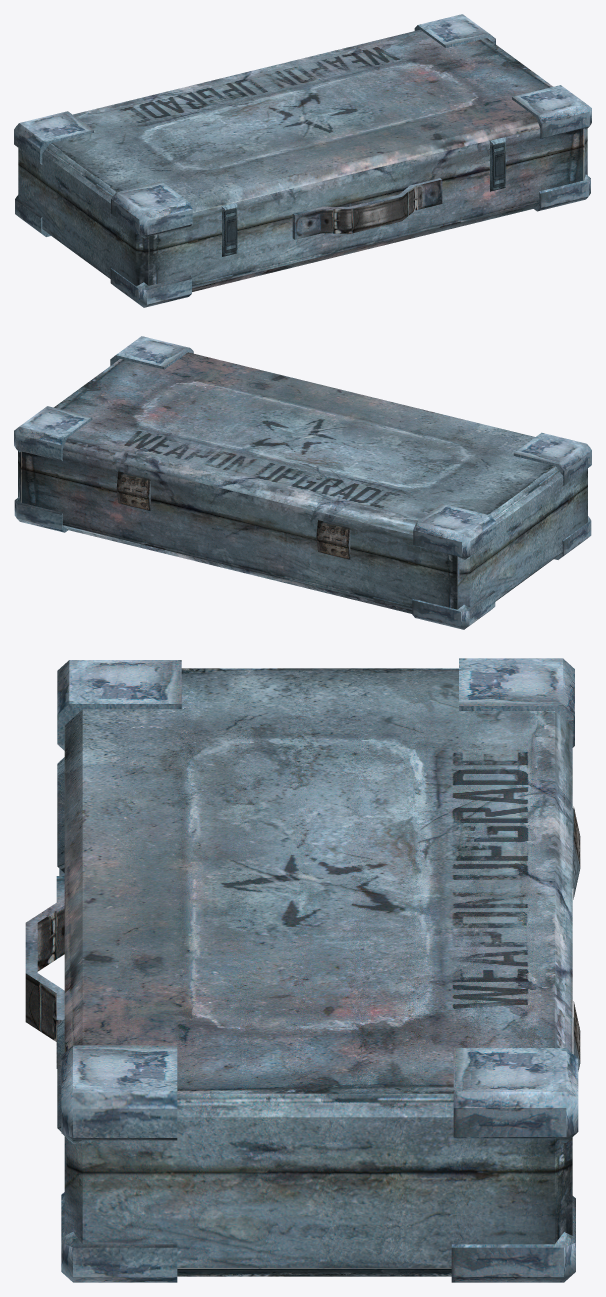
The model's file is VV_Weapon_Supply_Crate.fbx.
3 renders of one model, top to bottom at view 1: azimuth 30°, elevation 25°; view 2: azimuth 150°, elevation 25°; view 3: azimuth 270°, elevation 25°, orthographic. The views are drawn at different scales.
Visible parts, largest first — view 1: VV_Weapon_Supply_Crate; view 2: VV_Weapon_Supply_Crate; view 3: VV_Weapon_Supply_Crate.
Boxes of the visible parts, bbox=[...] form: VV_Weapon_Supply_Crate: bbox=[14, 14, 591, 307]; VV_Weapon_Supply_Crate: bbox=[14, 336, 591, 629]; VV_Weapon_Supply_Crate: bbox=[25, 658, 580, 1282].
Bounding box in the file's own units: 176 × 35.19 × 92.78.
Materials: 1 (1 with a texture image).
